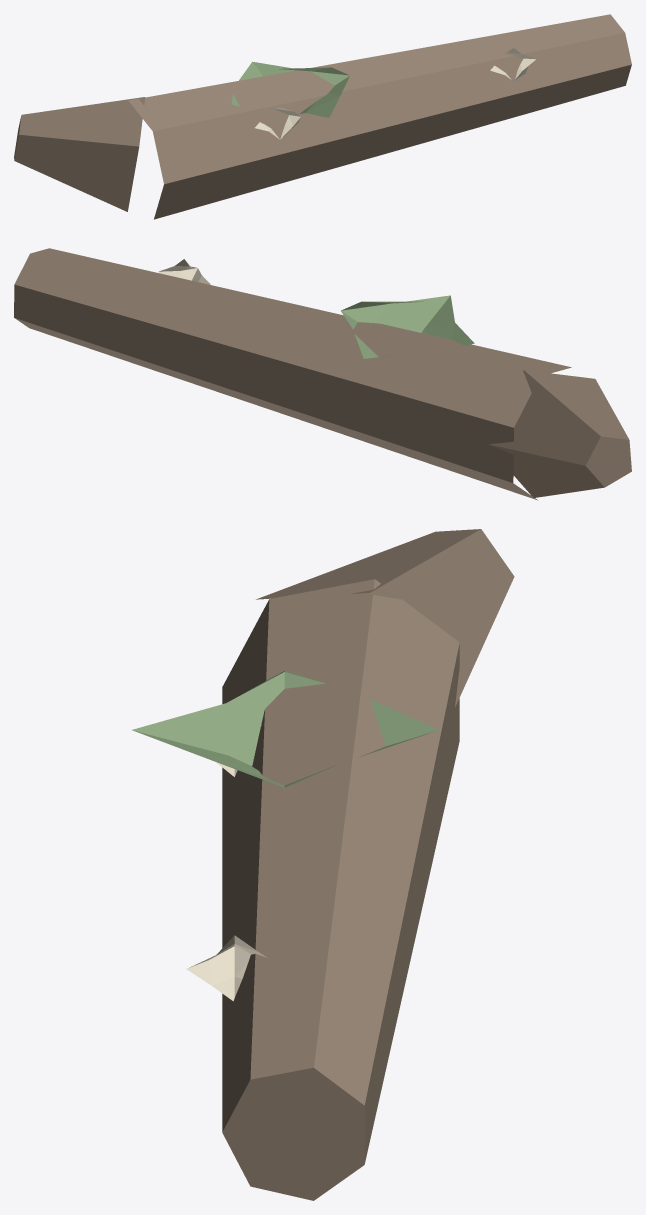
The model's file is log_v03.glb.
The picture shows the model from 3 angles, top to bottom: view 1: azimuth 30°, elevation 25°; view 2: azimuth 150°, elevation 25°; view 3: azimuth 270°, elevation 25°; orthographic projection. The views are drawn at different scales.
Visible parts, largest first — view 1: lod0; view 2: lod0; view 3: lod0.
Boxes of the visible parts, x1=… form: lod0: x1=14, y1=14, x2=631, y2=219; lod0: x1=14, y1=248, x2=631, y2=500; lod0: x1=132, y1=529, x2=514, y2=1200.
Size of what is drawn, in the model's own units: 3.35 by 0.7045 by 0.9808.
